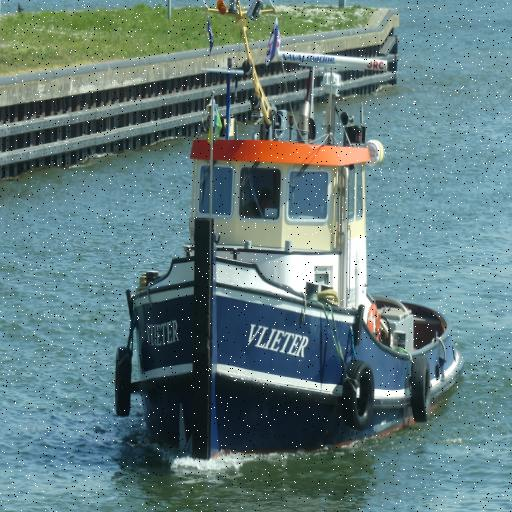tugboat: (111, 52, 468, 481)
